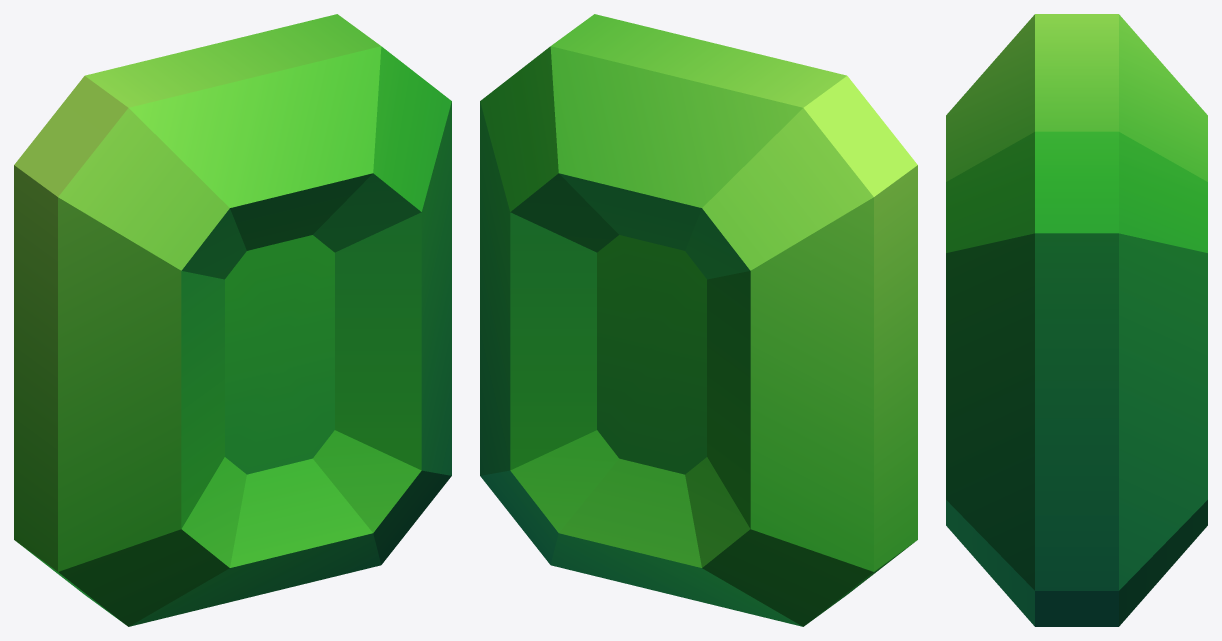
Rendered from Emerald_02.glb.
3 views of the same model, side by side, from view 1: azimuth 30°, elevation 25°; view 2: azimuth 150°, elevation 25°; view 3: azimuth 270°, elevation 25° (orthographic). The views are drawn at different scales.
Visible parts, largest first — view 1: Emerald_02; view 2: Emerald_02; view 3: Emerald_02.
Boxes of the visible parts, x1,y1,x2,y2 form: Emerald_02: [14, 14, 451, 626]; Emerald_02: [480, 14, 917, 626]; Emerald_02: [946, 14, 1207, 626].
Size of the model in its own units: 0.3291 by 0.4145 by 0.1986.
Materials: 1 (1 with a texture image).
